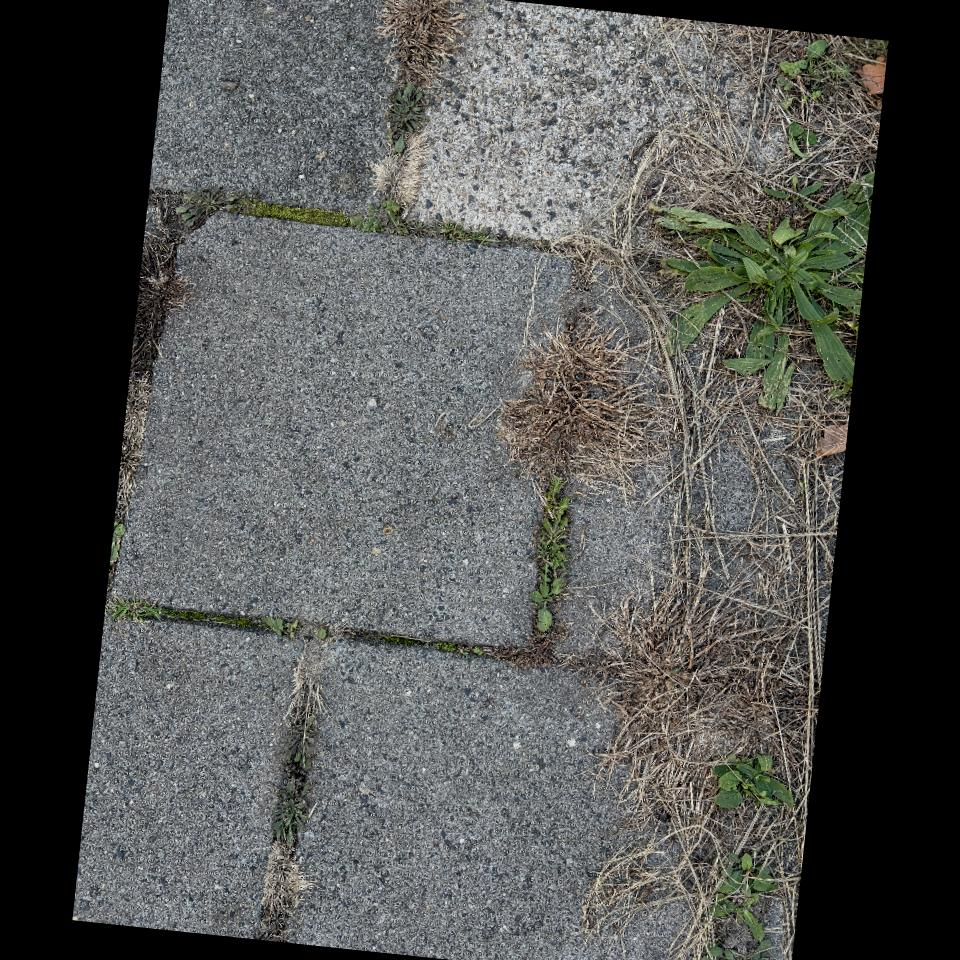weed: (655, 193, 870, 412), (498, 323, 657, 489), (377, 0, 466, 85), (530, 477, 569, 632), (710, 853, 777, 941), (713, 754, 793, 808), (668, 293, 724, 347), (243, 201, 349, 227), (390, 82, 427, 152), (285, 716, 315, 770), (702, 940, 771, 960), (380, 200, 409, 234), (806, 39, 826, 59), (362, 220, 367, 229)
